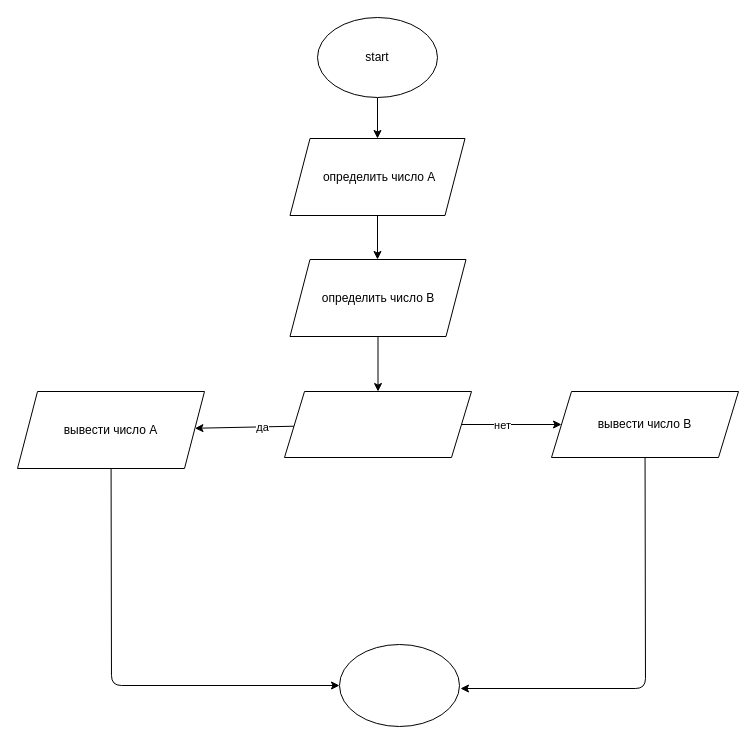
Image size: 756x744. Some labels were removed from this diagram. Each missing label, with the centre of its shape:
end: the point at 399,685
если А>В: the point at 378,424
